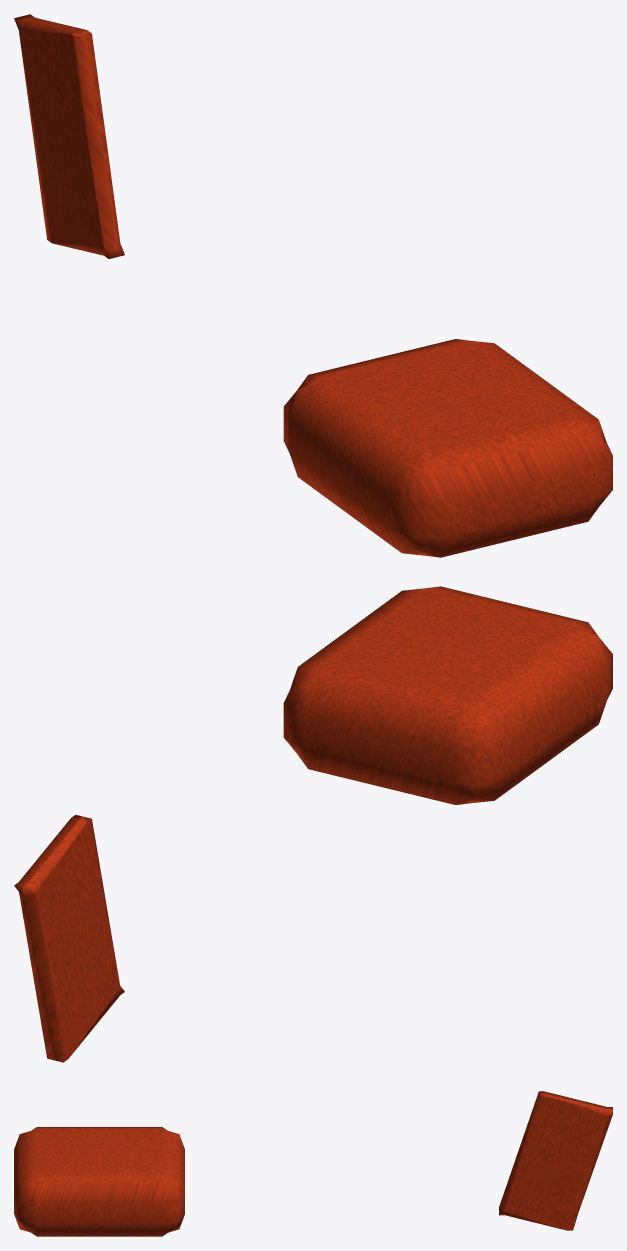
3 renders of one model, top to bottom at view 1: azimuth 30°, elevation 25°; view 2: azimuth 150°, elevation 25°; view 3: azimuth 270°, elevation 25°, orthographic. The views are drawn at different scales.
Bounding box in the file's own units: 1.3 × 1.3 × 5.25.
Materials: 1 (1 with a texture image).
